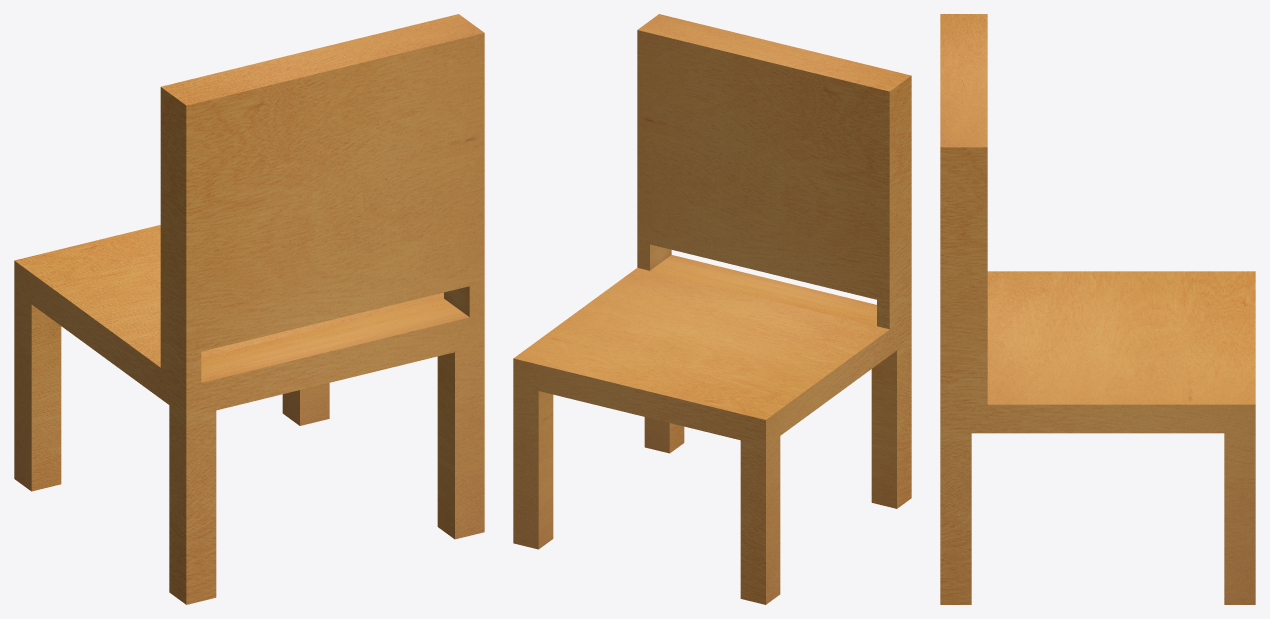
The model's file is Furniture_Chair.fbx.
The picture shows the model from 3 angles, left to right: view 1: azimuth 30°, elevation 25°; view 2: azimuth 150°, elevation 25°; view 3: azimuth 270°, elevation 25°; orthographic projection. The views are drawn at different scales.
Visible parts, largest first — view 1: pCube1; view 2: pCube1; view 3: pCube1.
Part boxes in pixels (x1,y1,x2,y2): pCube1: (14, 14, 484, 604); pCube1: (513, 14, 911, 604); pCube1: (940, 14, 1255, 604).
Size of the model in its own units: 50 by 80 by 50.
Materials: 1 (1 with a texture image).
